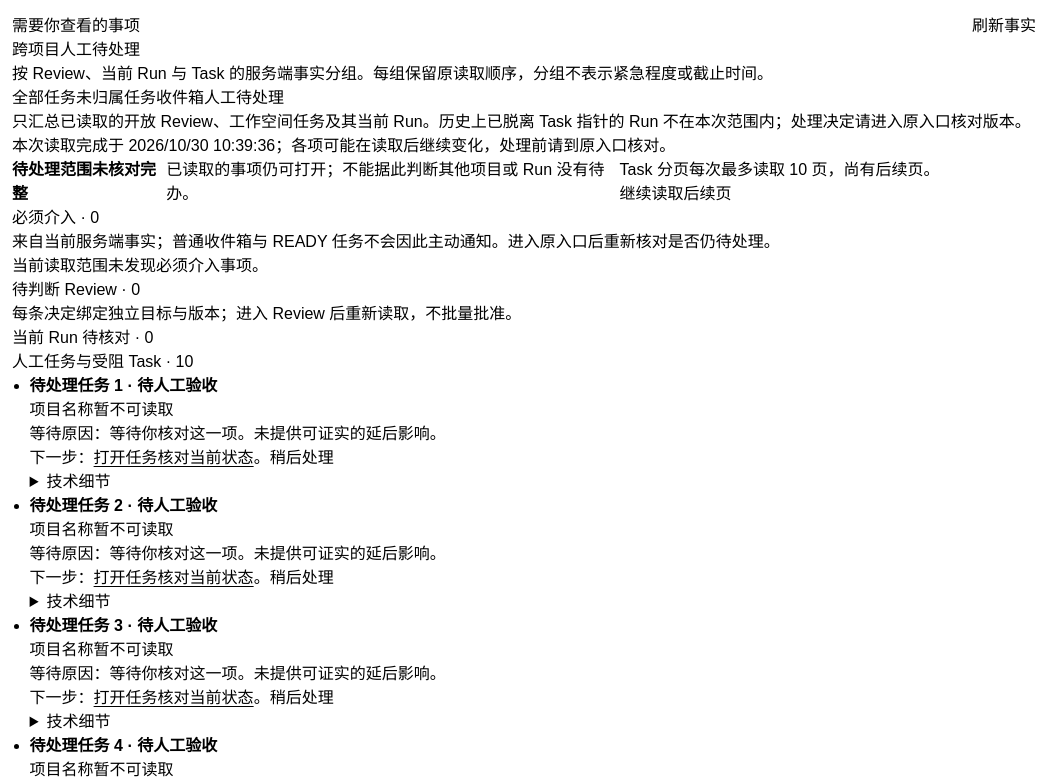
人工待处理队列的续页恢复（禅道 #131） › 续页批次里后面某页失败时，保留的是那一页的游标而不是批首游标
Click the button with test id "attention-continue-pages". click: point(676, 192)
box: [620,180,732,204]
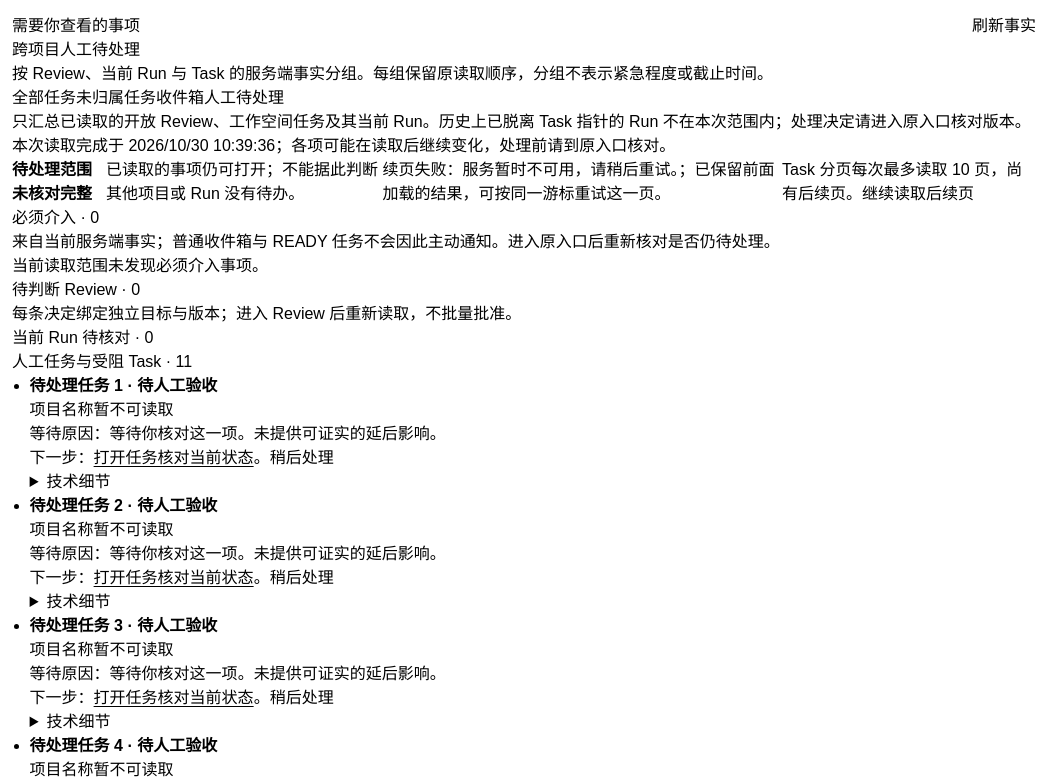
Click the button with test id "attention-continue-pages". click: point(918, 192)
box: [862,180,974,204]
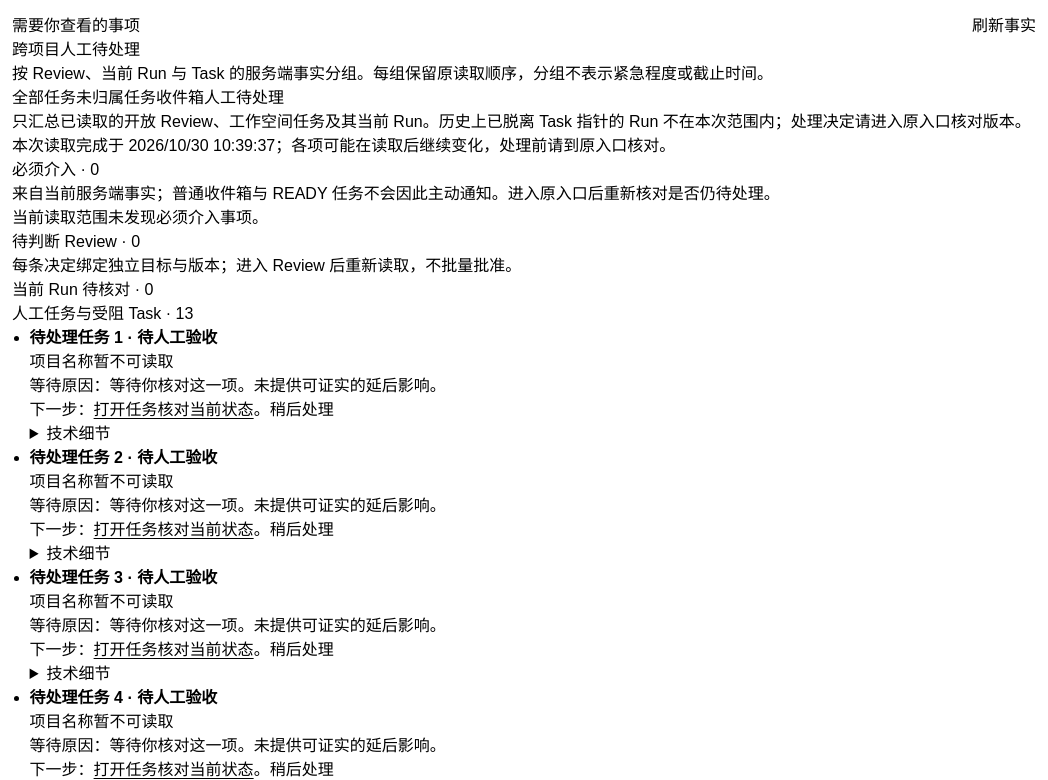
Expected: the text "服务暂时不可用" is gone
